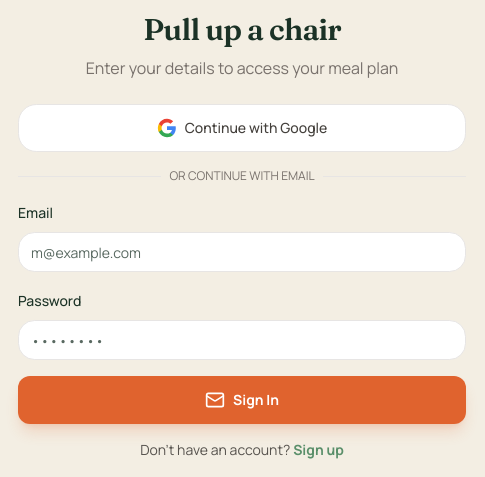
AuthForm › toggles to signup form
Click the button "Sign up". click: click(318, 450)
box: top-left (293, 440), bottom-right (344, 460)
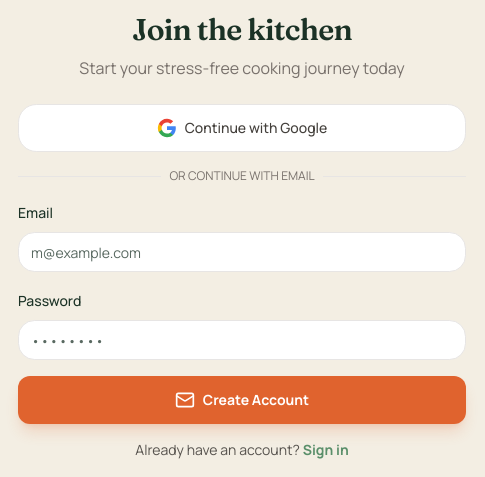
Expected: the heading "Join the kitchen" is shown, top-left (132, 11), bottom-right (352, 48)
Expected: the button "Create Account" is shown, top-left (18, 376), bottom-right (466, 424)
